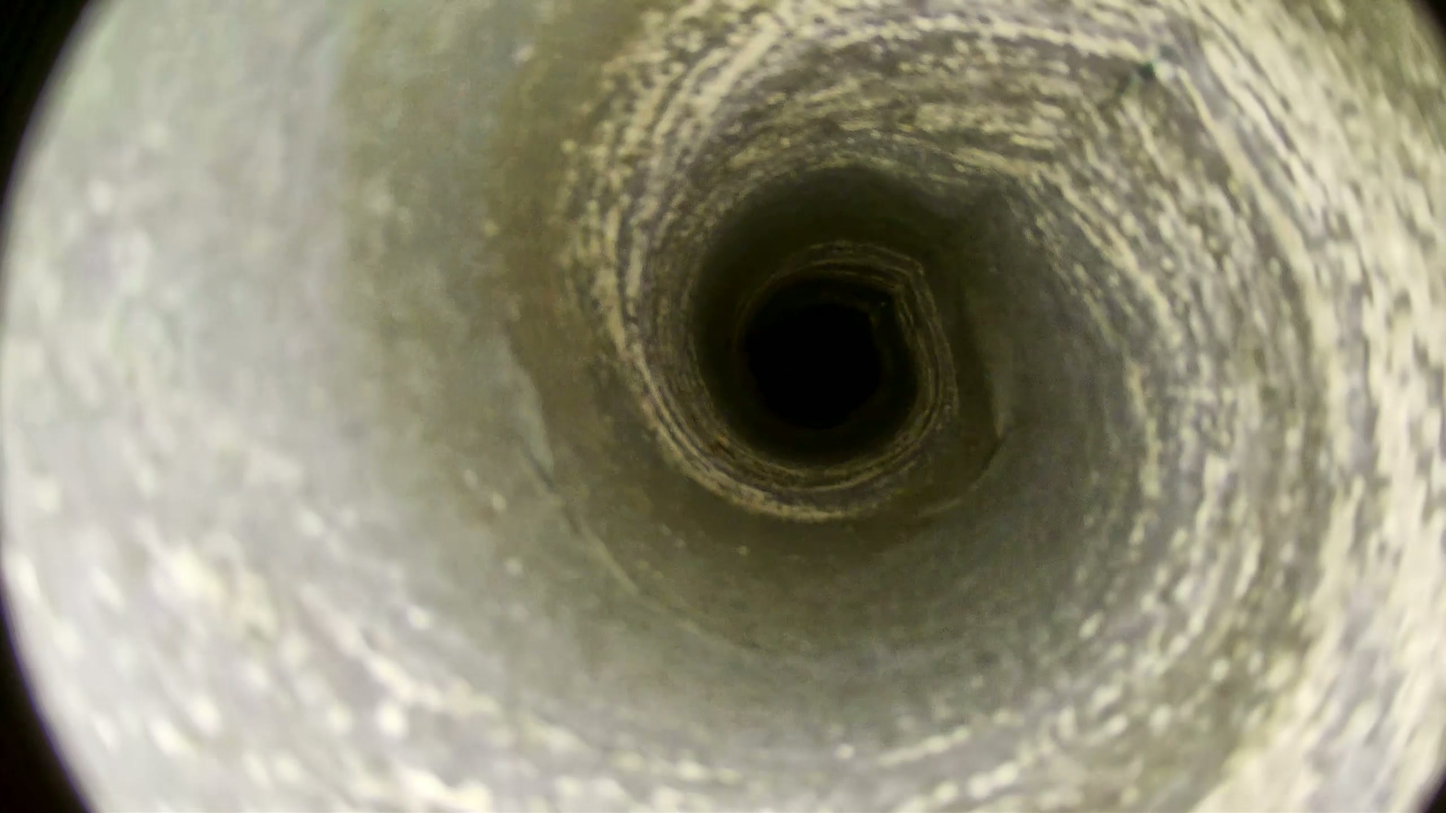hole: (750, 298, 880, 424)
